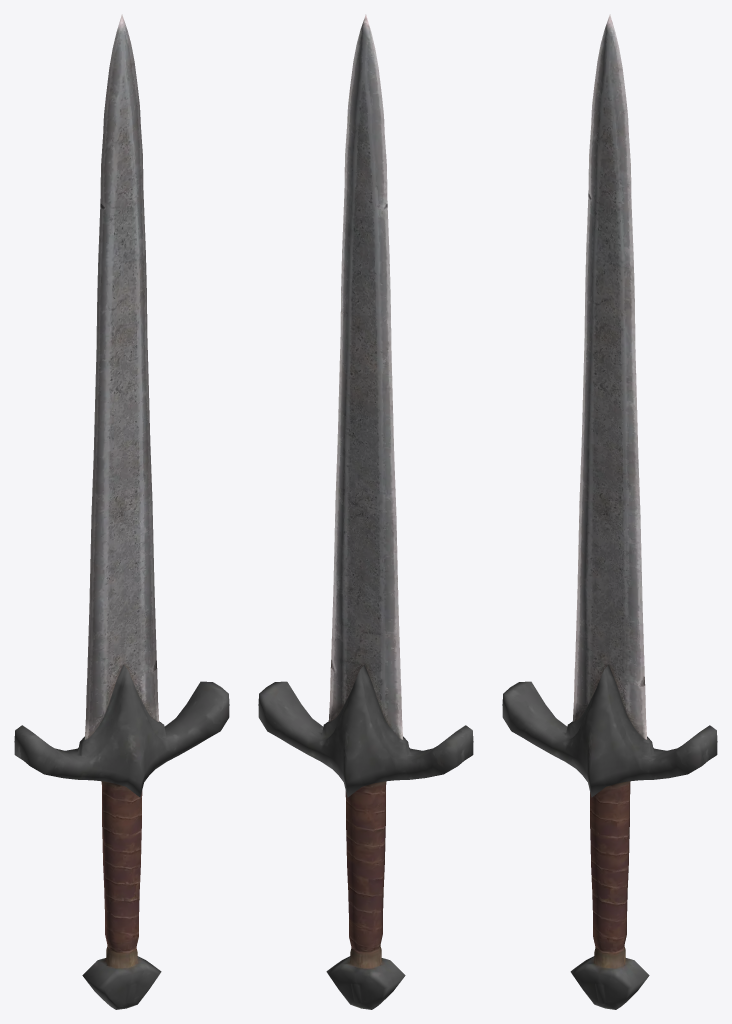
The picture shows the model from 3 angles, left to right: view 1: azimuth 30°, elevation 25°; view 2: azimuth 150°, elevation 25°; view 3: azimuth 330°, elevation 25°; orthographic projection.
Parts seen in each view (by area): view 1: SM_Sword_Iron_1H_02_LOD0; view 2: SM_Sword_Iron_1H_02_LOD0; view 3: SM_Sword_Iron_1H_02_LOD0.
Boxes of the visible parts, x1,y1,x2,y2 form: SM_Sword_Iron_1H_02_LOD0: (14,14,229,1009); SM_Sword_Iron_1H_02_LOD0: (258,14,473,1009); SM_Sword_Iron_1H_02_LOD0: (502,14,717,1009).
Bounding box in the file's own units: 0.2387 × 1.13 × 0.0816.
1 material, 1 textured.
